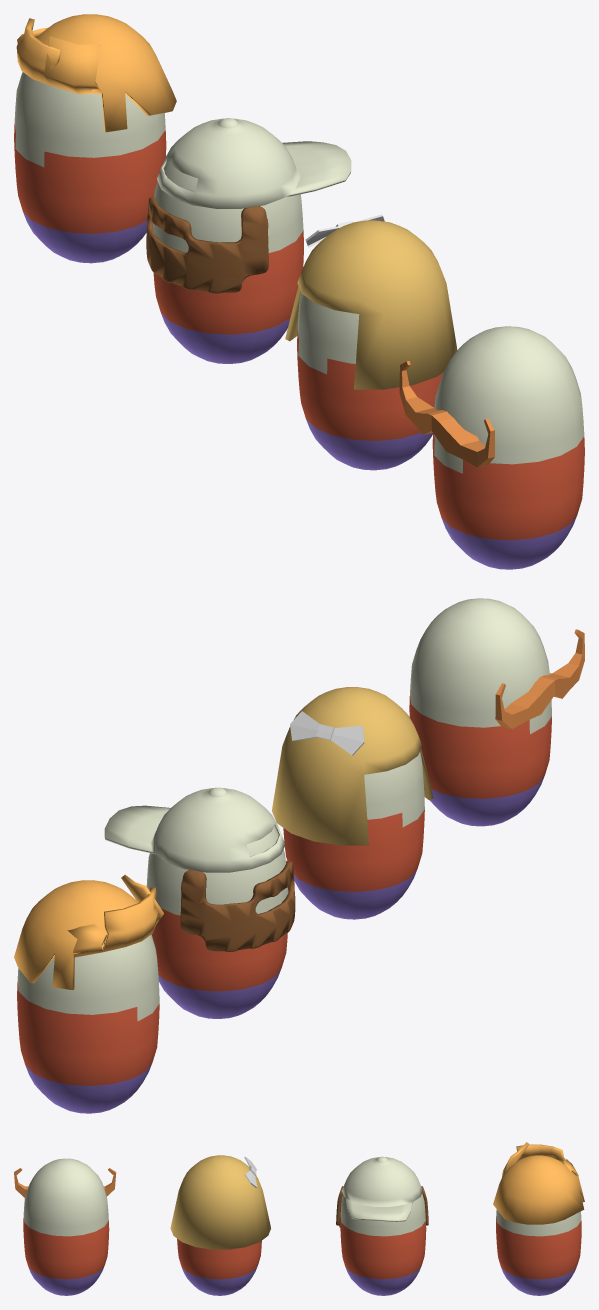
Rendered from Fans.fbx.
The picture shows the model from 3 angles, top to bottom: view 1: azimuth 30°, elevation 25°; view 2: azimuth 150°, elevation 25°; view 3: azimuth 270°, elevation 25°; orthographic projection. The views are drawn at different scales.
Parts seen in each view (by area): view 1: Cylinder.011, Cylinder.004, Cylinder.010, Cylinder.006, Cylinder.009, Cylinder.007, Cylinder.005, Cylinder.008, Cube.248; view 2: Cylinder.011, Cylinder.004, Cylinder.010, Cylinder.006, Cylinder.009, Cylinder.007, Cylinder.005, Cylinder.008, Cube.248, Plane; view 3: Cylinder.011, Cylinder.010, Cylinder.006, Cylinder.005, Cylinder.004, Cylinder.007, Cylinder.009, Cube.248, Cylinder.008, Plane.
Boxes of the visible parts, bbox=[...] form: Cylinder.011: bbox=[432, 326, 584, 569]; Cylinder.004: bbox=[14, 72, 166, 263]; Cylinder.010: bbox=[285, 220, 457, 389]; Cylinder.006: bbox=[153, 160, 303, 363]; Cylinder.009: bbox=[297, 293, 443, 470]; Cylinder.007: bbox=[157, 118, 351, 208]; Cylinder.005: bbox=[16, 14, 176, 132]; Cylinder.008: bbox=[146, 197, 268, 293]; Cube.248: bbox=[399, 361, 494, 467]; Cylinder.011: bbox=[409, 598, 551, 826]; Cylinder.004: bbox=[17, 934, 159, 1113]; Cylinder.010: bbox=[272, 687, 433, 845]; Cylinder.006: bbox=[146, 826, 288, 1018]; Cylinder.009: bbox=[283, 751, 424, 919]; Cylinder.007: bbox=[104, 787, 285, 872]; Cylinder.005: bbox=[14, 875, 163, 989]; Cylinder.008: bbox=[180, 860, 295, 951]; Cube.248: bbox=[495, 629, 584, 728]; Plane: bbox=[290, 711, 364, 755]; Cylinder.011: bbox=[23, 1158, 109, 1295]; Cylinder.010: bbox=[170, 1155, 270, 1249]; Cylinder.006: bbox=[340, 1193, 426, 1295]; Cylinder.005: bbox=[493, 1142, 584, 1224]; Cylinder.004: bbox=[496, 1209, 581, 1295]; Cylinder.007: bbox=[342, 1156, 422, 1221]; Cylinder.009: bbox=[177, 1239, 261, 1295]; Cube.248: bbox=[14, 1168, 116, 1197]; Cylinder.008: bbox=[336, 1186, 428, 1227]; Plane: bbox=[244, 1156, 257, 1187].
Bounding box in the file's own units: 38.35 × 46.82 × 177.
